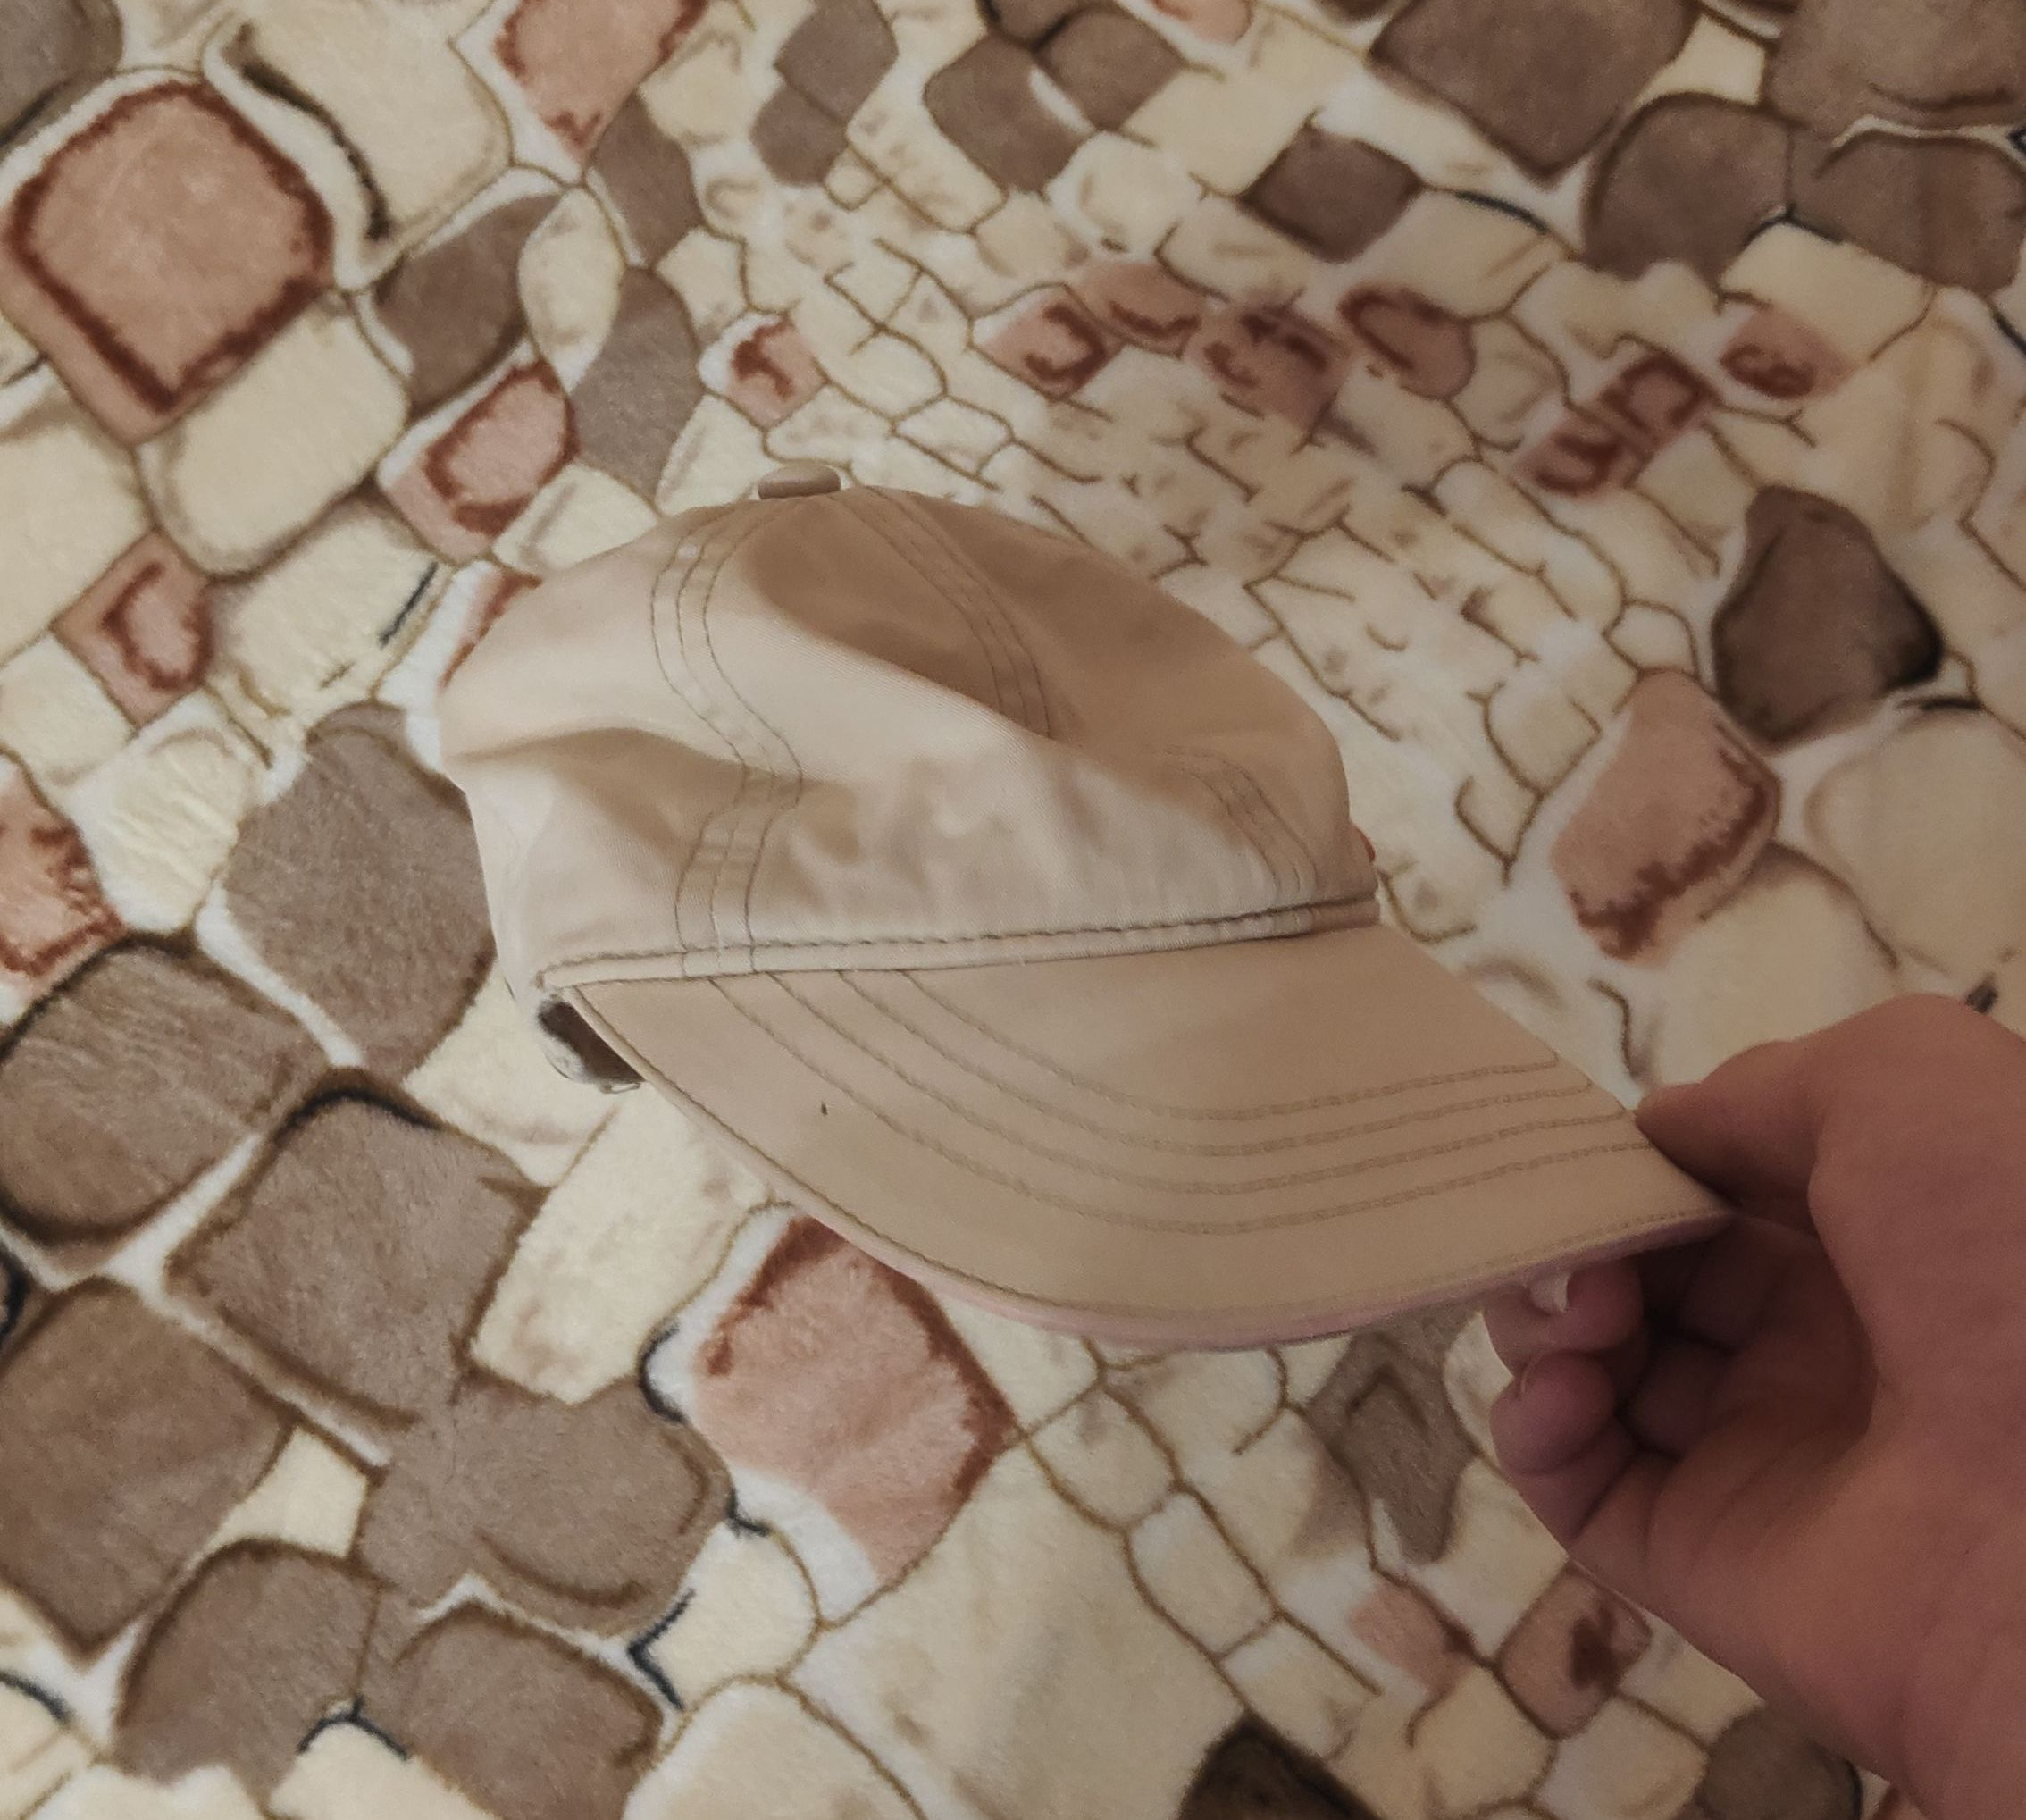clothes: (414, 457, 1735, 1321)
